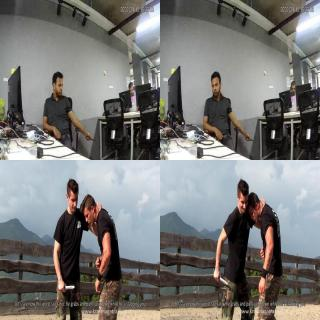knife: (213, 272, 229, 288), (58, 282, 76, 293), (86, 132, 96, 144), (244, 135, 256, 144)
